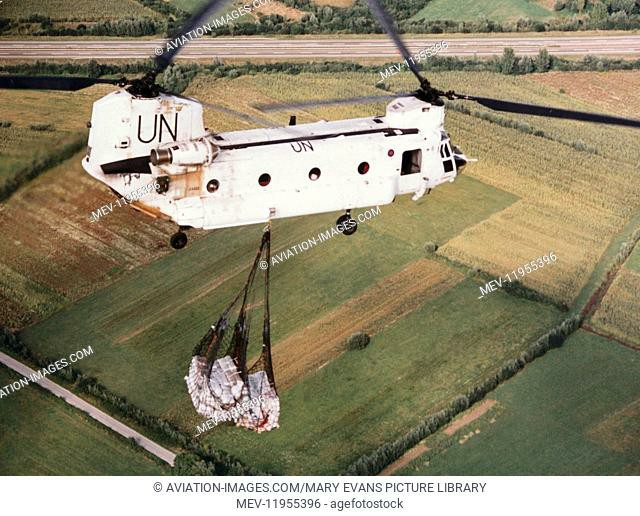chinook: (64, 58, 499, 259)
